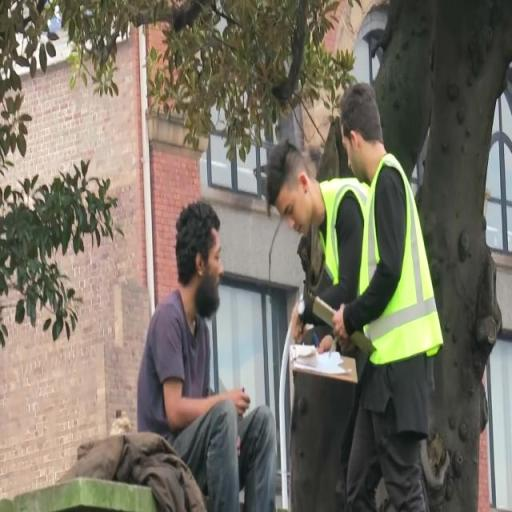vest: (350, 146, 448, 376), (306, 168, 376, 342)
